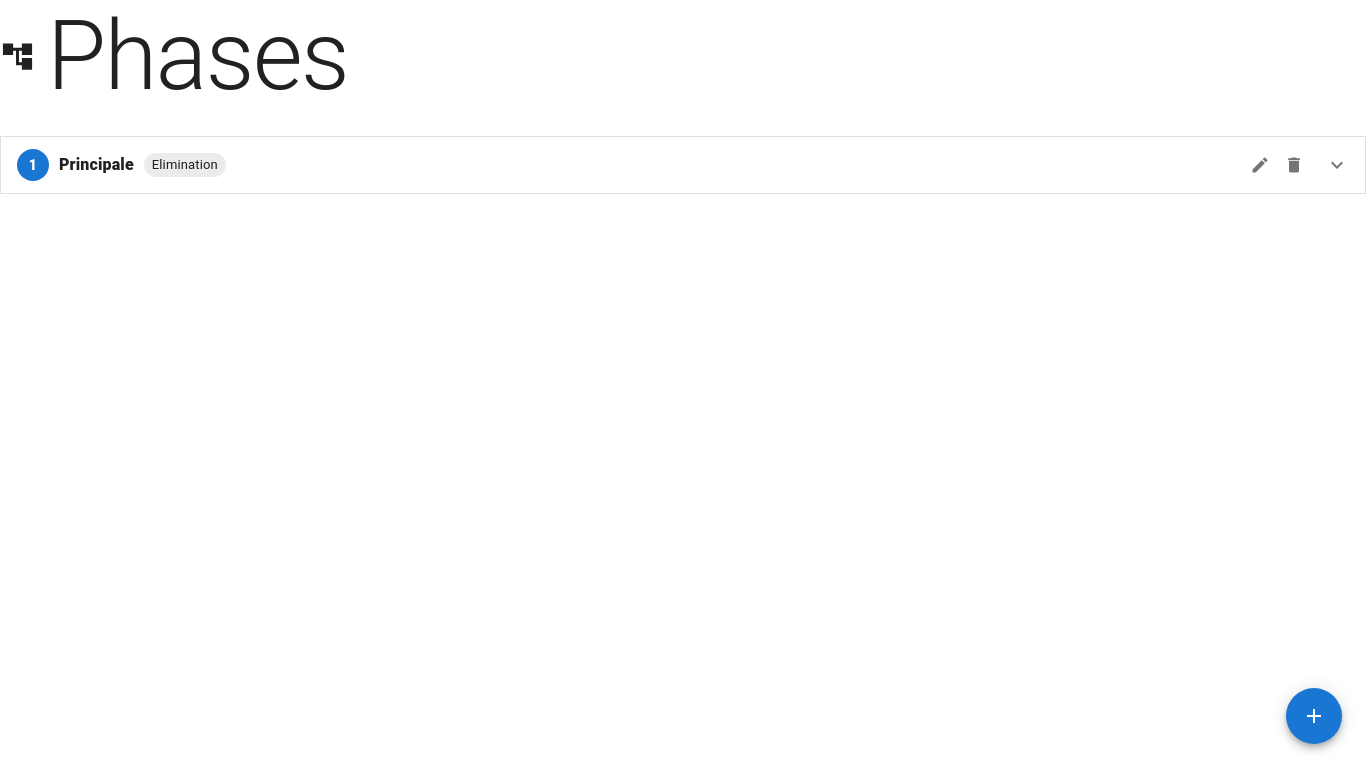
AdminPhasesView › should open the update drawer for the selected phase
What coordinates should you click on to do the following:
click the button named "Editer Principale"
I would click on:
 (1260, 165)
Its box is [1245, 150, 1275, 180].
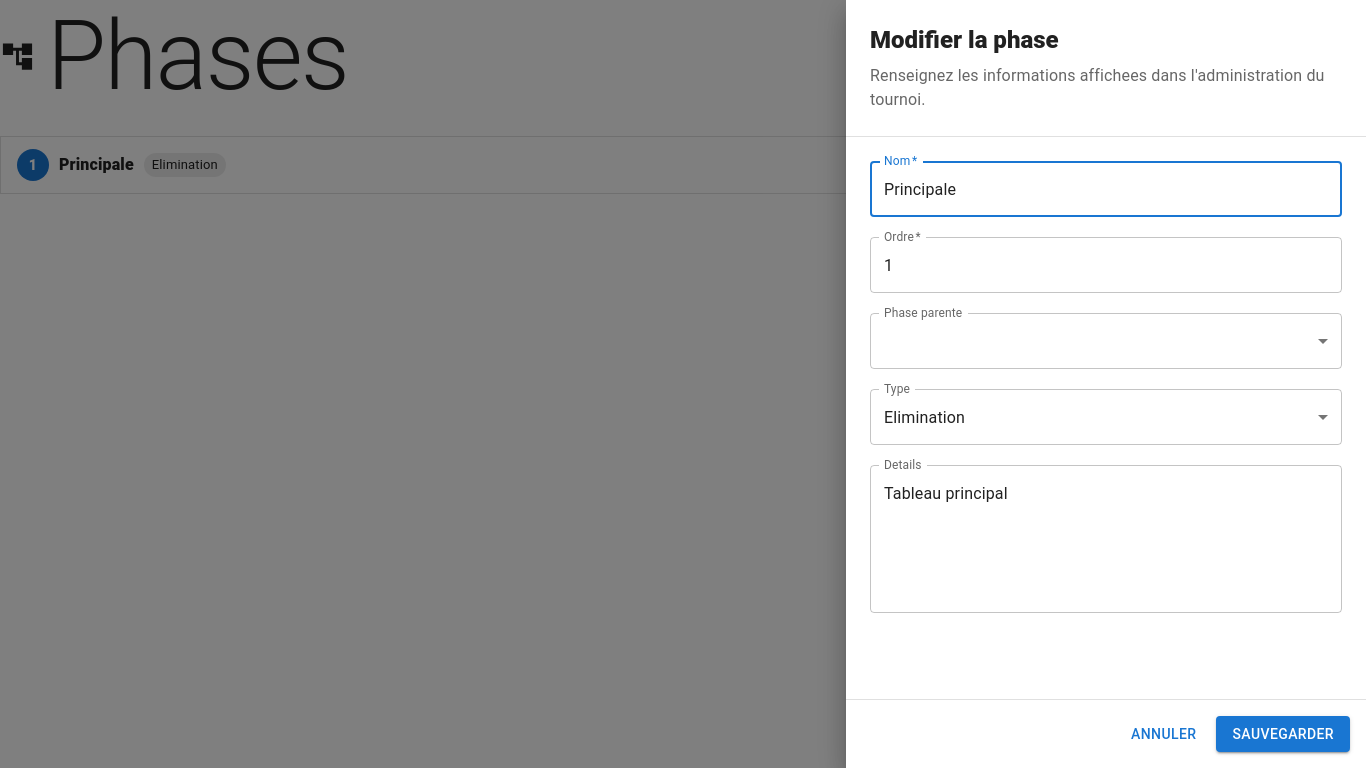
Expected: the heading "Modifier la phase" is shown, [870, 26, 1059, 54]
Expected: the field showing "Principale" is shown, [870, 161, 1342, 217]
Expected: the text box showing "Tableau principal" is shown, [884, 482, 1328, 596]
